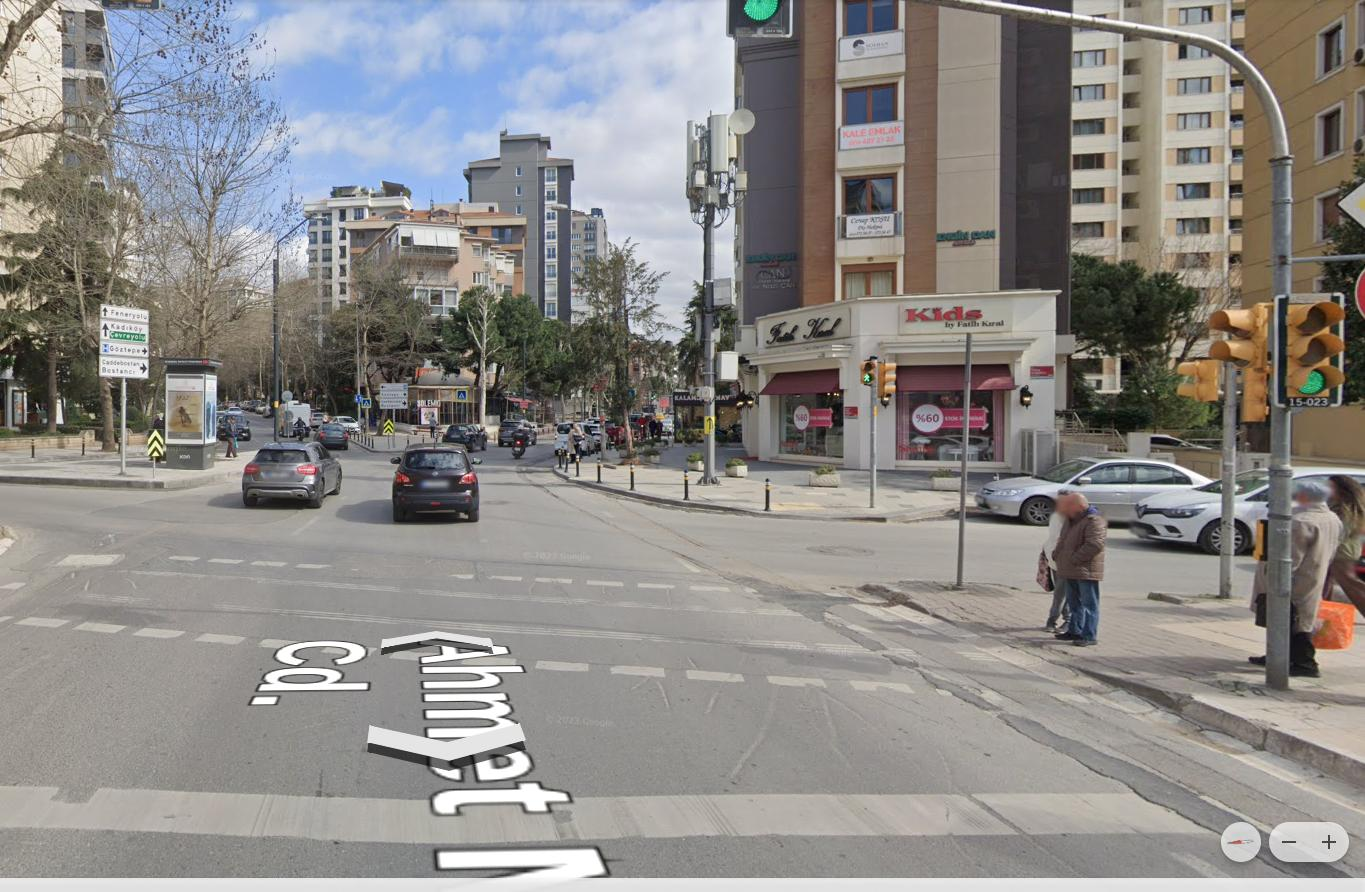greenlight: (1284, 292, 1344, 402), (728, 0, 793, 46)
